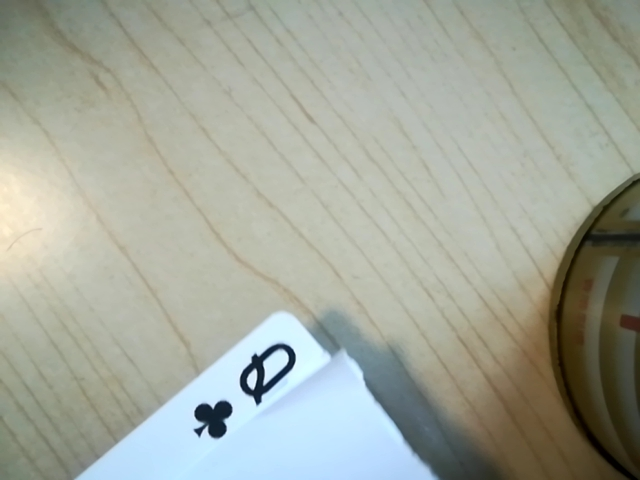mh q: (186, 335, 317, 437)
